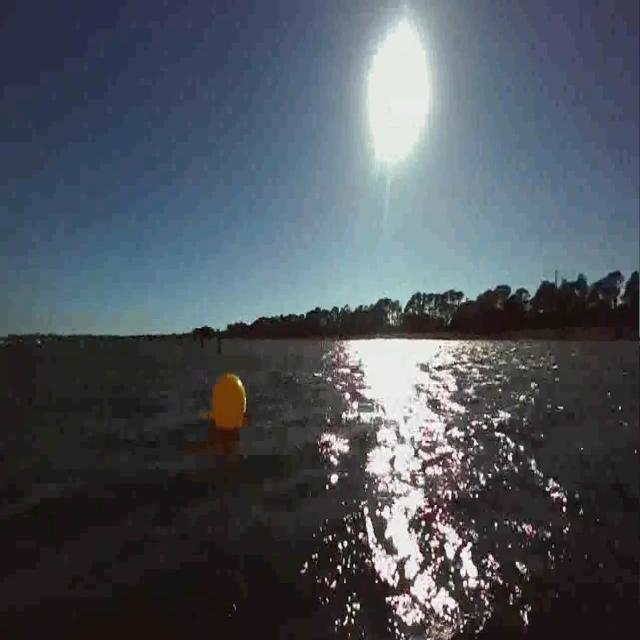yellow-buoy: (213, 372, 249, 432)
